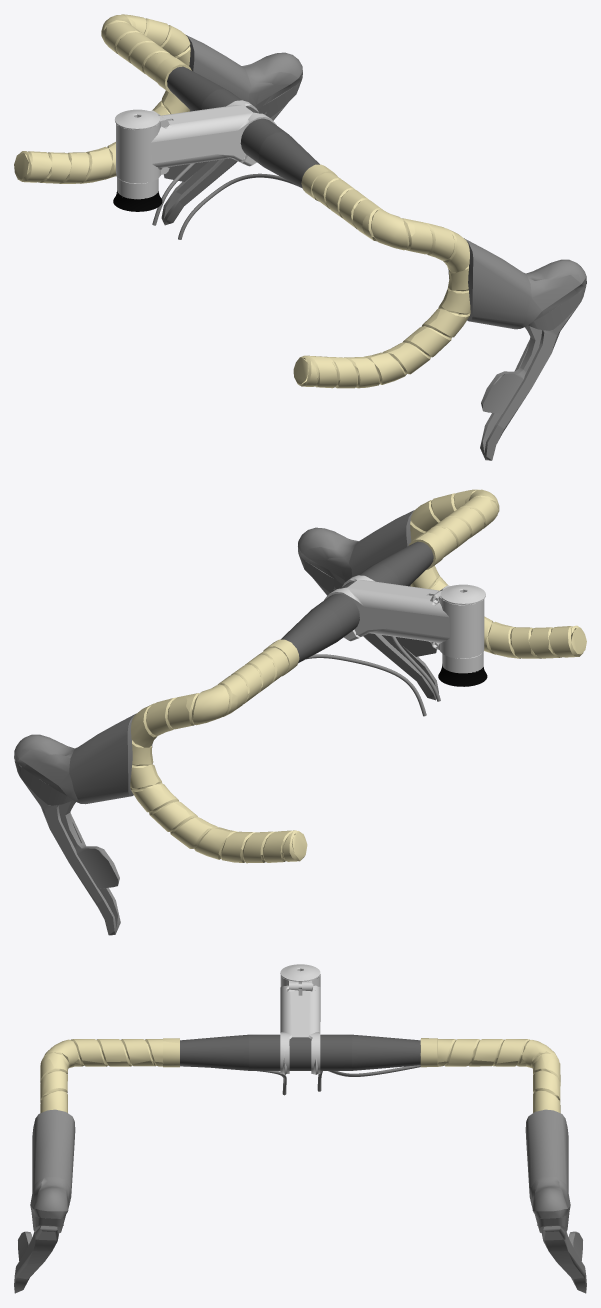
Rendered from Mango_Handle_Drop.glb.
3 views of the same model, one above another, from view 1: azimuth 30°, elevation 25°; view 2: azimuth 150°, elevation 25°; view 3: azimuth 270°, elevation 25° (orthographic). The views are drawn at different scales.
Parts seen in each view (by area): view 1: no_transformations (×6); view 2: no_transformations (×6); view 3: no_transformations (×5).
Part boxes in pixels (x1,y1,x2,y2): no_transformations (×6): (14,14,586,460); no_transformations (×6): (14,489,586,935); no_transformations (×5): (14,964,586,1293).
Size of the model in its own units: 289 by 232 by 500.
